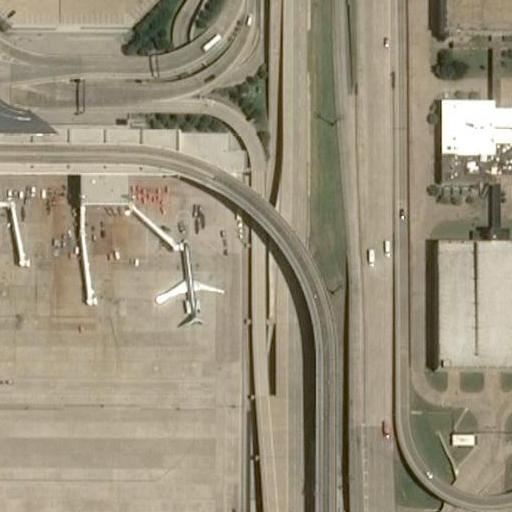Aircraft: (157, 250, 218, 326)
